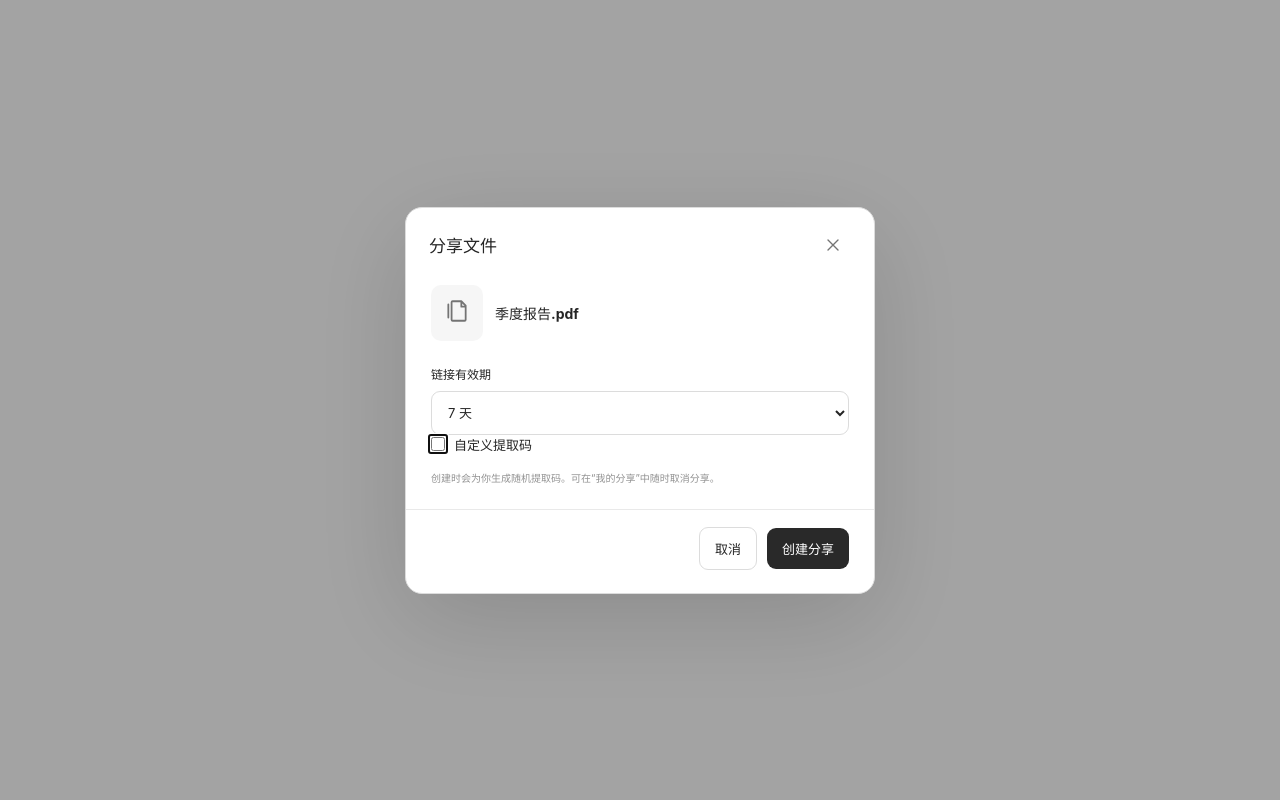
Test: 创建分享对话框 › 剪贴板拒绝时提供手动复制，不显示虚假复制成功
Submit the form with id "share-create-form", box [431,364,849,486]
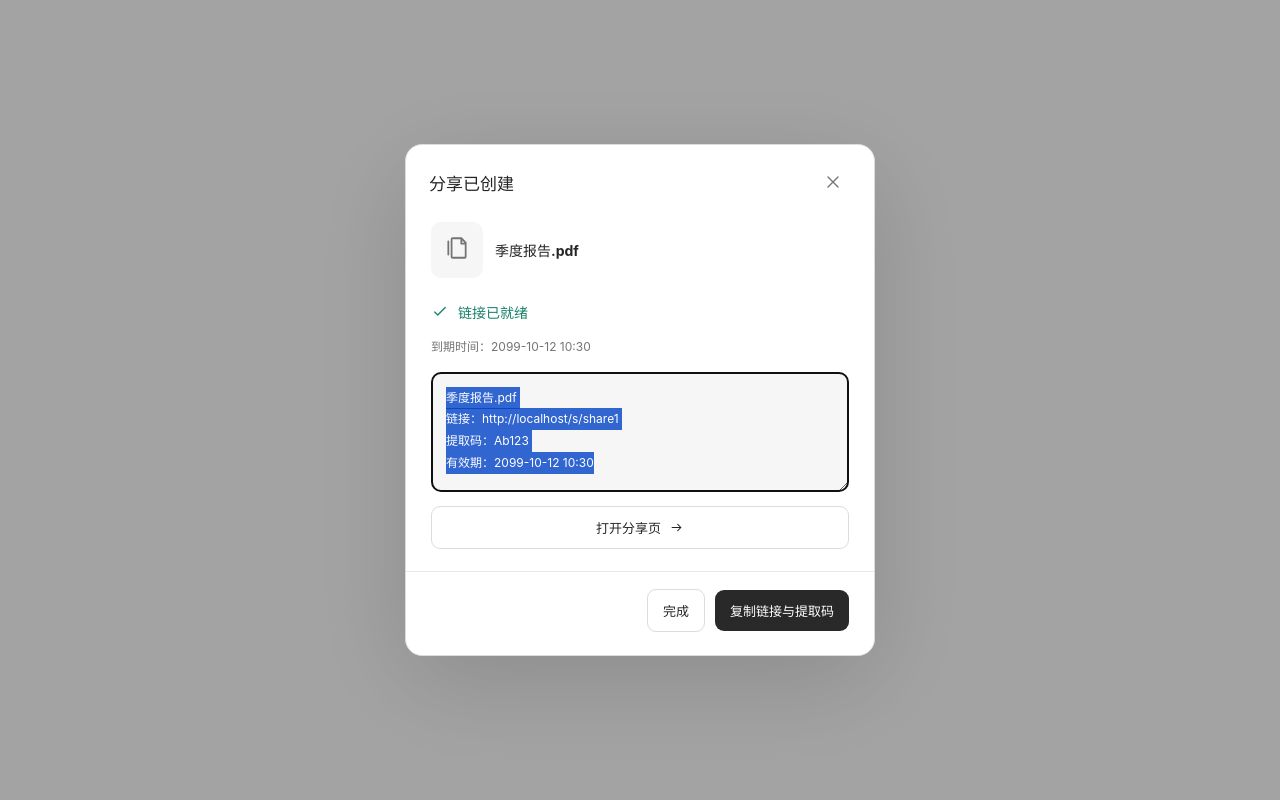
Click the button "复制链接与提取码": (782, 610) [715,590,849,631]
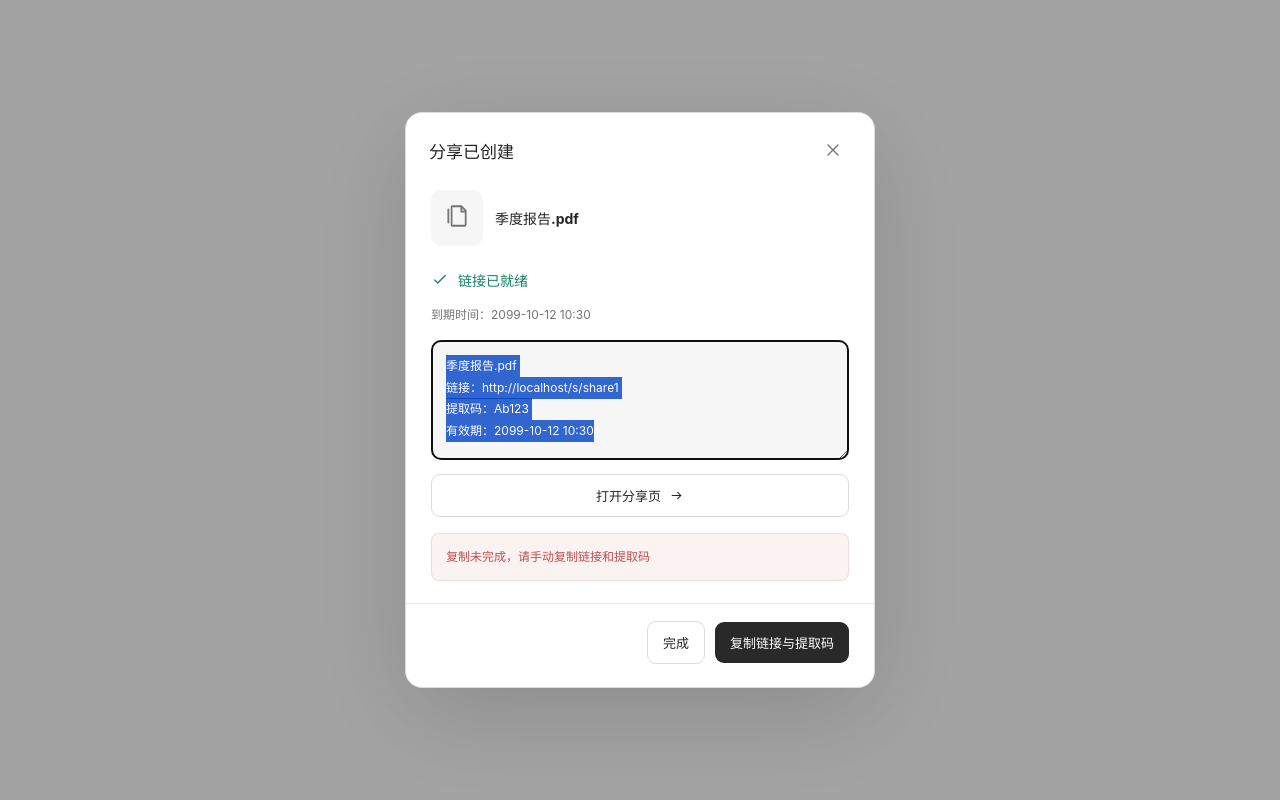
Expected: the text box named "分享链接和提取码" is shown, [431,340,849,460]
Expected: the message "复制未完成，请手动复制链接和提取码" is shown, [431,533,849,581]
Click the button "复制链接与提取码": (782, 642) [715,622,849,663]
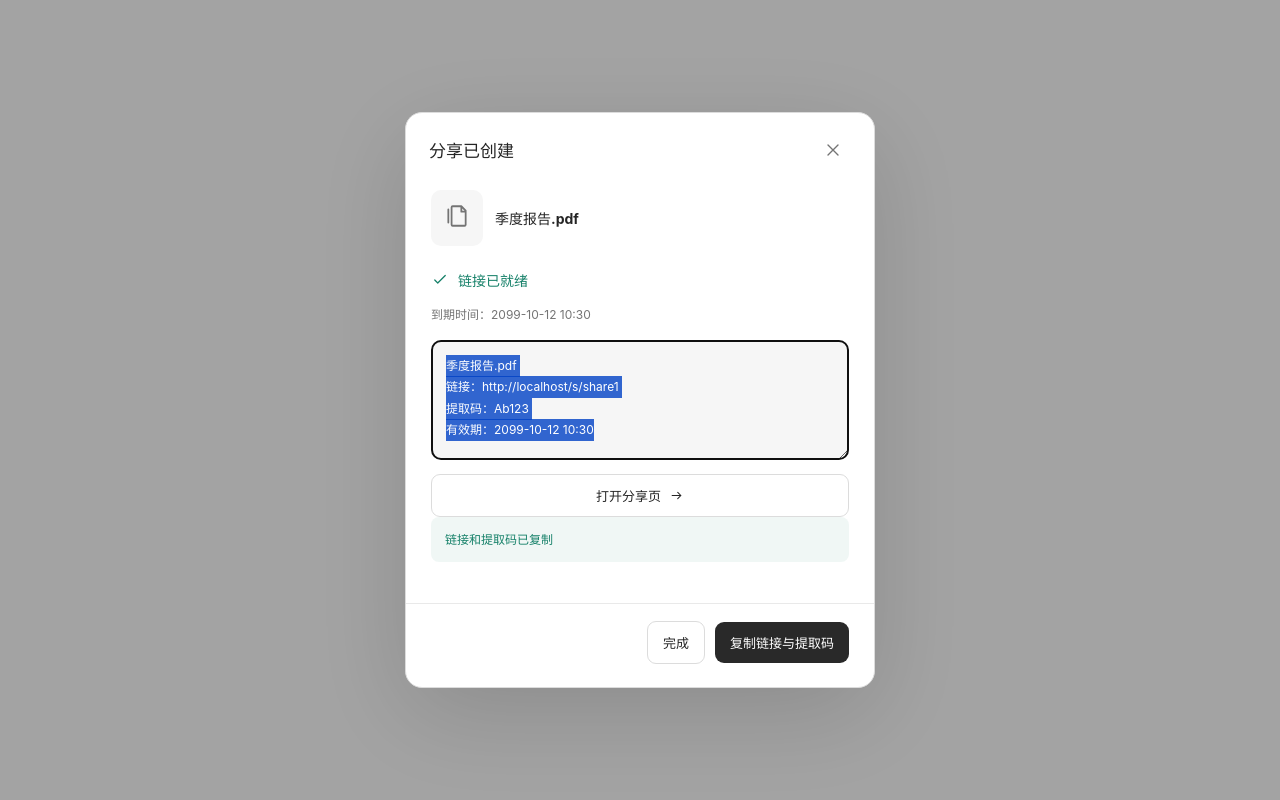
Expected: the message "链接和提取码已复制" is shown, [431,516,849,562]
